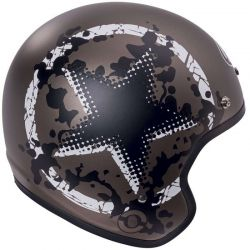with_helmet: (6, 1, 250, 249)
